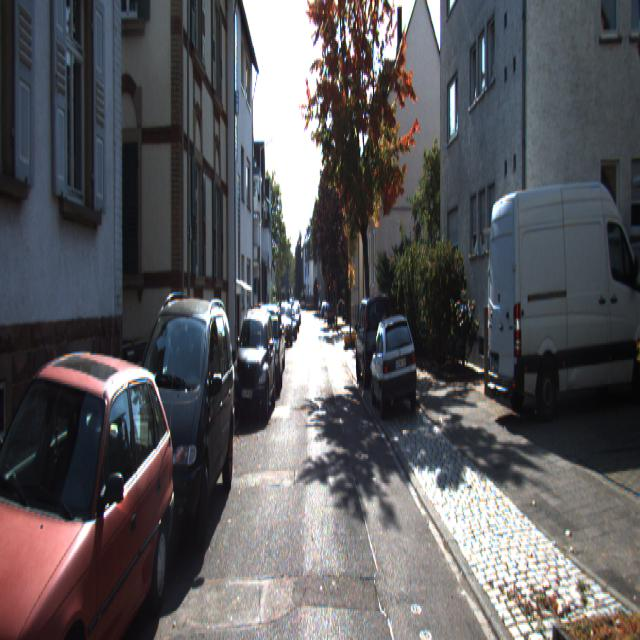Car: (0, 344, 182, 639), (484, 170, 640, 427), (112, 288, 240, 572), (230, 303, 278, 429), (368, 310, 420, 420), (354, 290, 394, 389), (254, 303, 284, 397)
